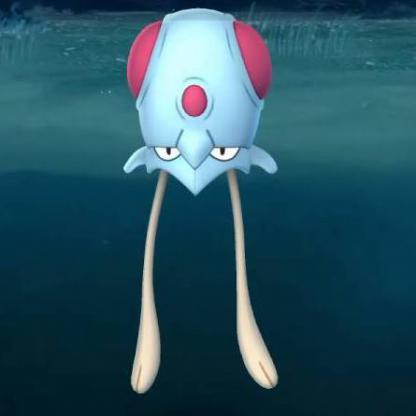Tentacool: (95, 1, 303, 396)
